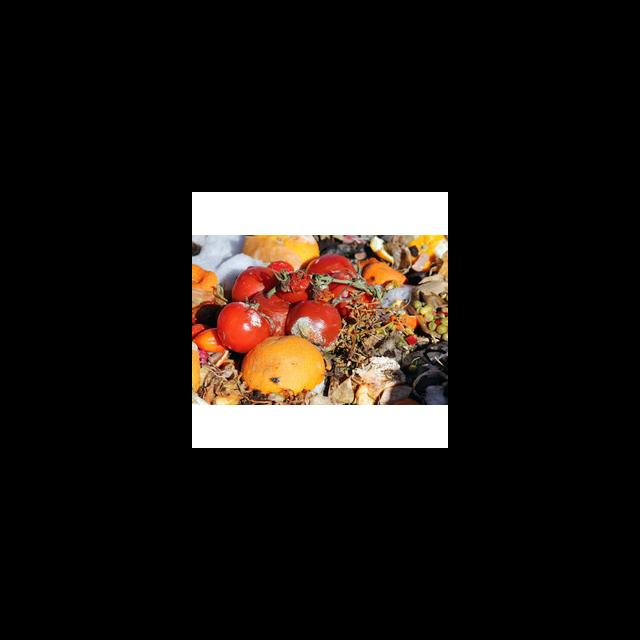food_waste: (194, 269, 447, 404), (250, 235, 446, 269)
